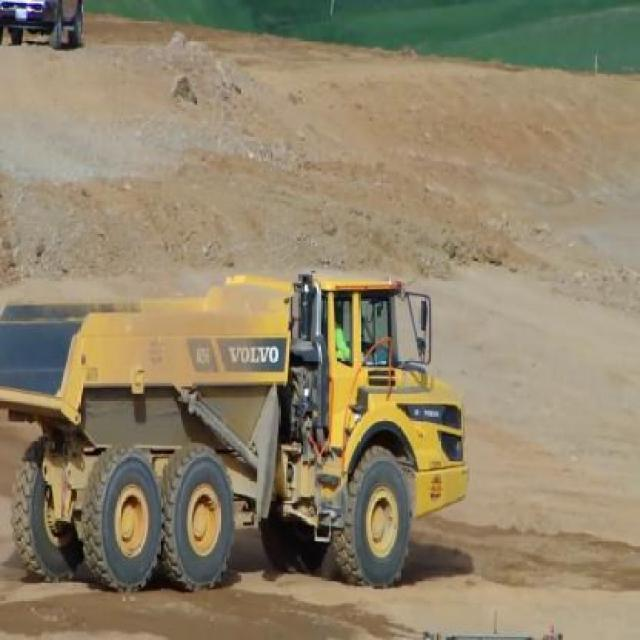Dump Truck: (0, 254, 472, 599)
